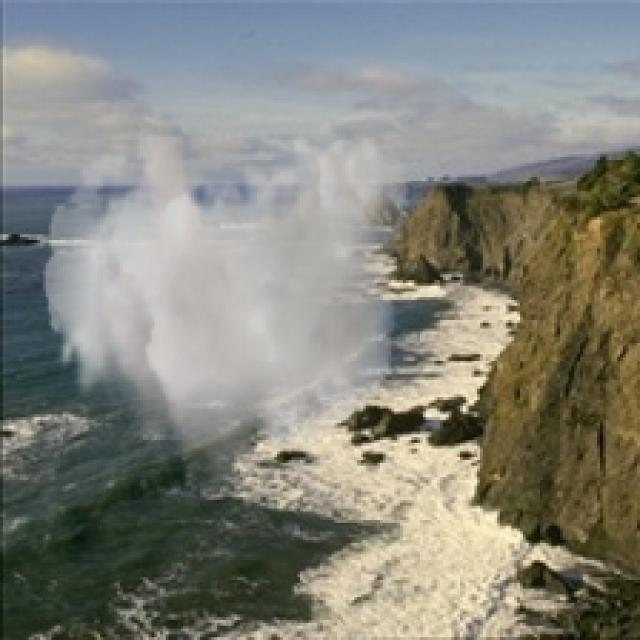smoke: (43, 117, 411, 500)
